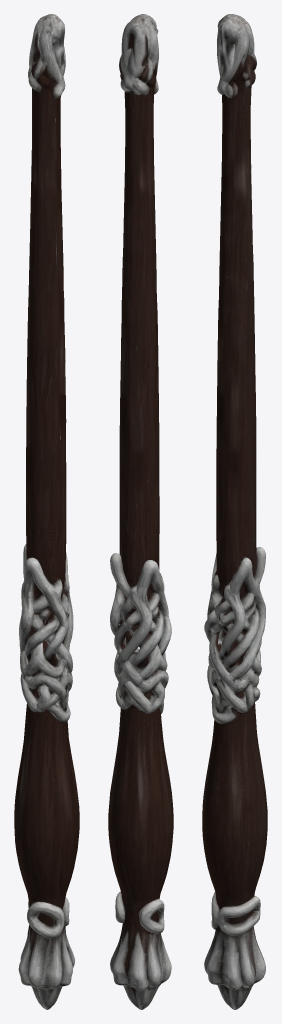
File: dyka.glb
The picture shows the model from 3 angles, left to right: view 1: azimuth 90°, elevation 25°; view 2: azimuth 150°, elevation 25°; view 3: azimuth 330°, elevation 25°; orthographic projection.
Parts seen in each view (by area): view 1: Mesh_0; view 2: Mesh_0; view 3: Mesh_0.
Part boxes in pixels (box(x1,y1,x2,y2)): Mesh_0: box(14, 14, 79, 1009); Mesh_0: box(108, 14, 173, 1009); Mesh_0: box(202, 14, 267, 1009).
Bounding box in the file's own units: 0.0238 × 0.4 × 0.0239.
1 material, 1 textured.
